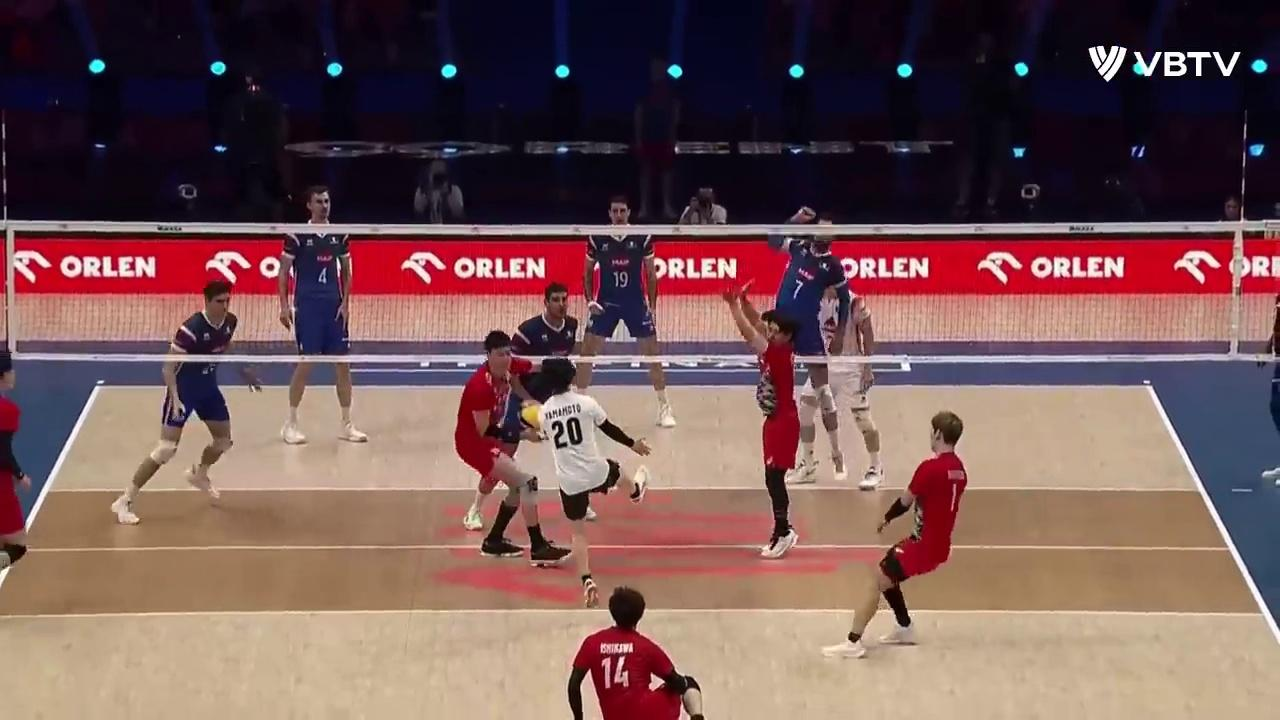ball: (517, 403, 543, 442)
